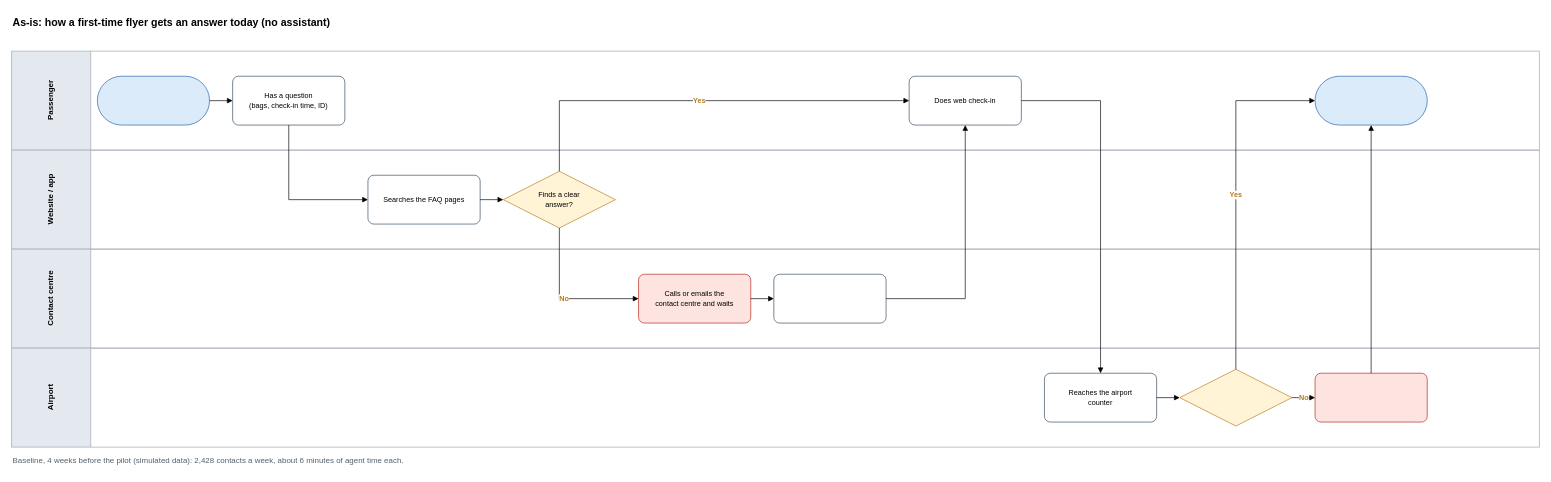
This 1551x482 diagram has some shape labels left out. The centre of each missing label's shape, as x and y in pixels:
Agent answers (about 6 min each): the point at 829,298
Bag within limit and on time?: the point at 1235,397
Boards the flight: the point at 1370,100
Books a ticket: the point at 153,100
Pays an airport fee or misses counter closing: the point at 1370,397
